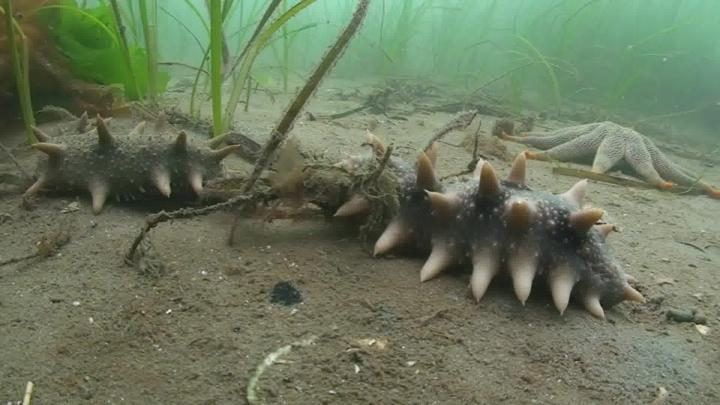holothurian: (308, 133, 644, 323), (20, 115, 243, 216)
scallop: (249, 339, 322, 405)
